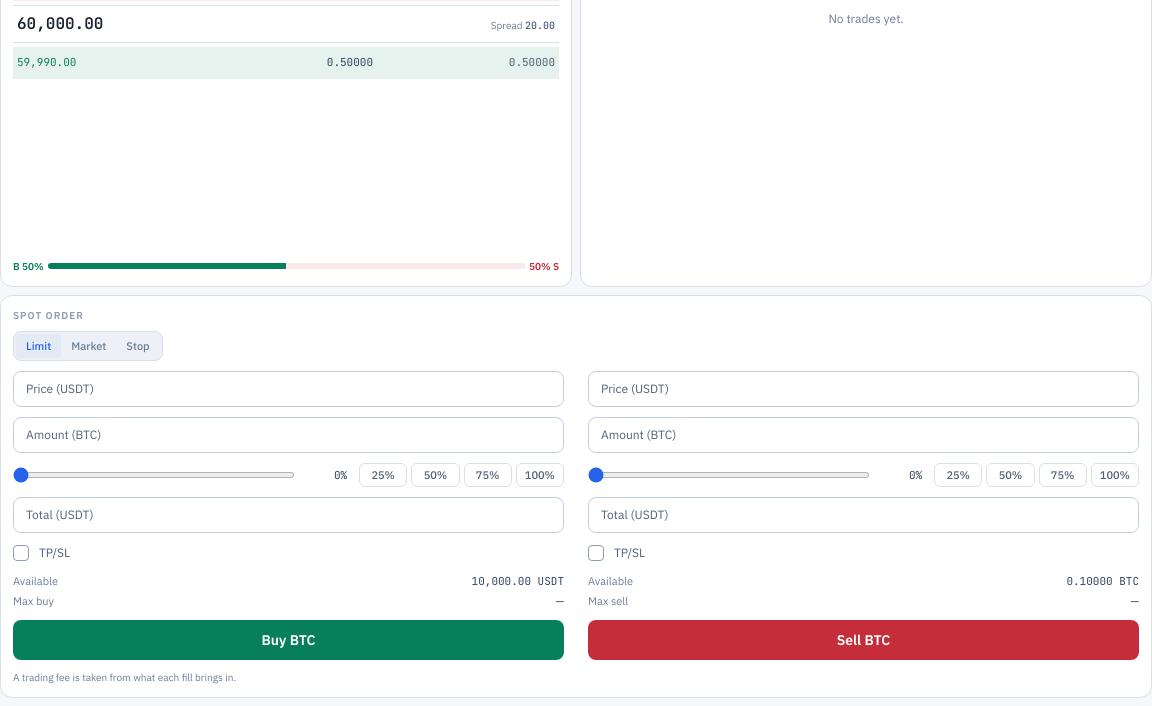
Test: Spot demo orders (TR-F3) › shows the Buy and the Sell forms side by side on a wide screen, under one order type
(page scrolled)
Expected: the text "10,000.00 USDT" is shown, left=472, top=574, right=564, bottom=588
Step 1. Click the radio button labelled "Stop" → [138, 346], box left=116, top=334, right=160, bottom=358
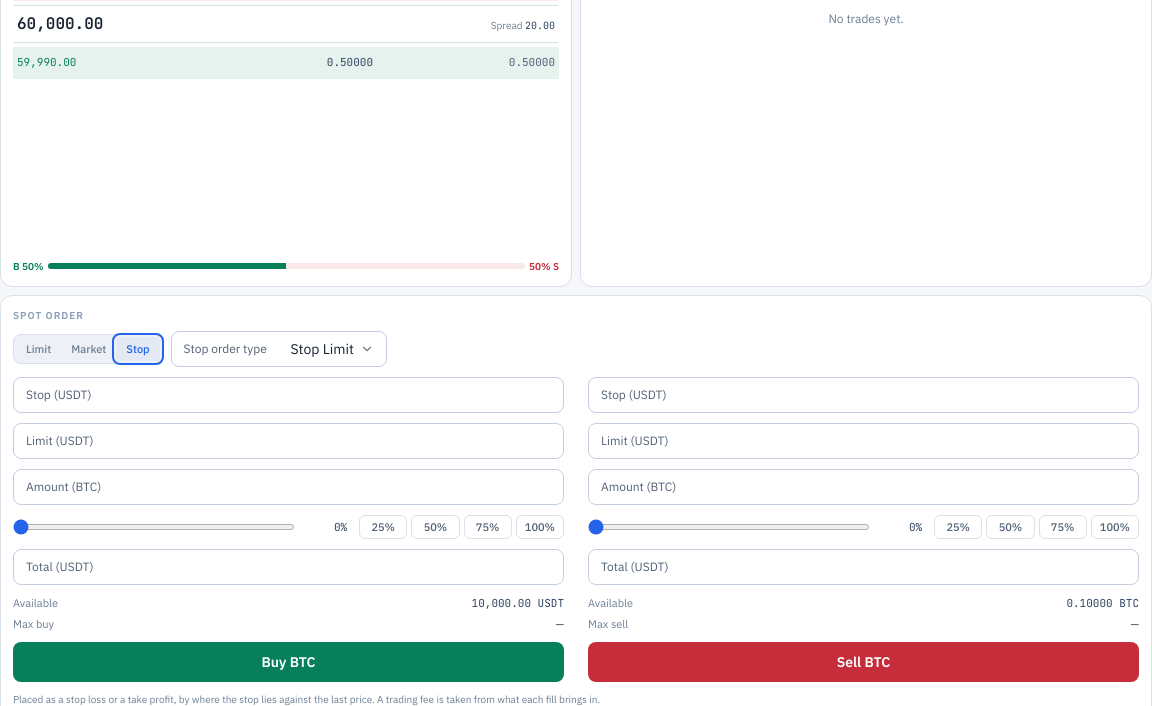
Now the 1st field labelled "Stop (USDT)" is shown, box left=100, top=378, right=551, bottom=412
Now the 2nd field labelled "Stop (USDT)" is shown, box left=675, top=378, right=1126, bottom=412
Step 2. Click the radio button labelled "Limit" → [39, 349], box left=16, top=337, right=61, bottom=361
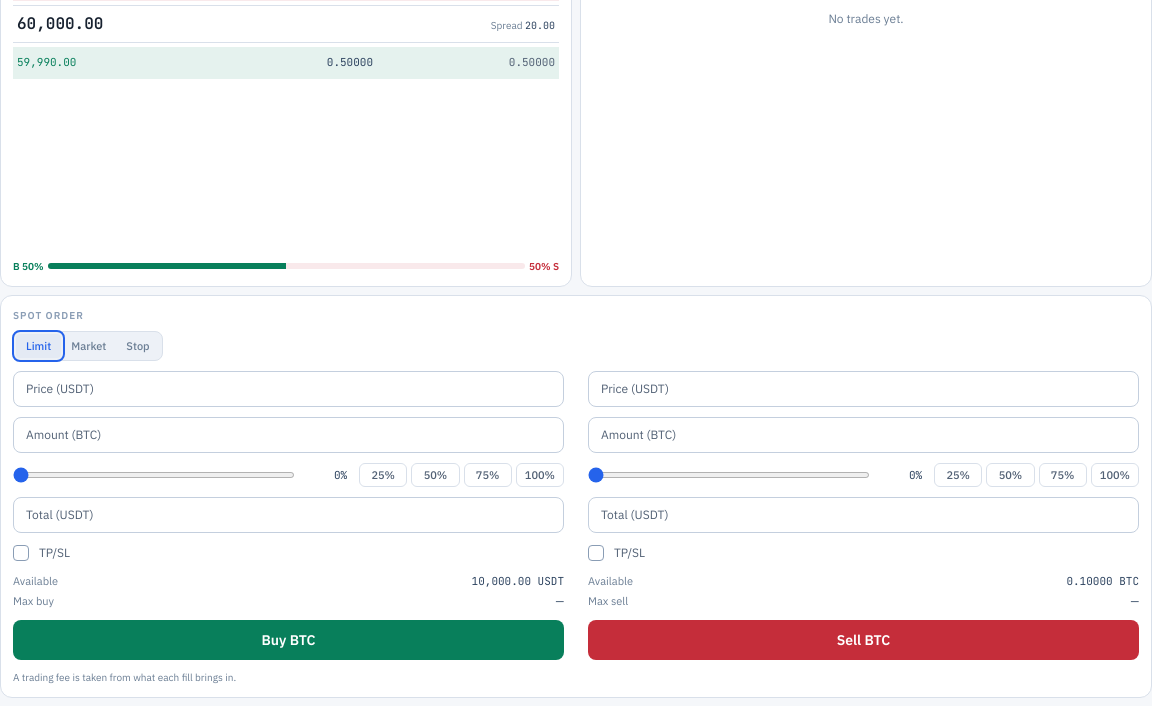
Step 3. Type "70000" into the 2nd field labelled "Price (USDT)" → [901, 389], box left=677, top=372, right=1126, bottom=406
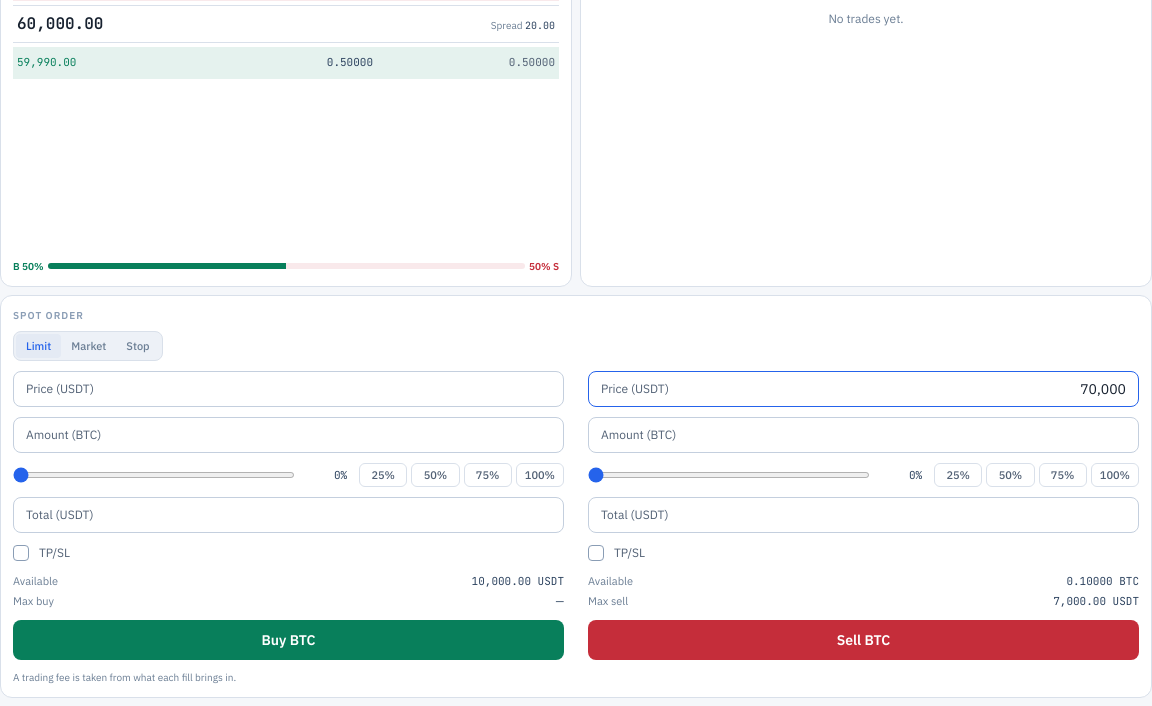
Step 4. Type "0.05" into the 2nd field labelled "Amount (BTC)" → [905, 435], box left=684, top=418, right=1126, bottom=452
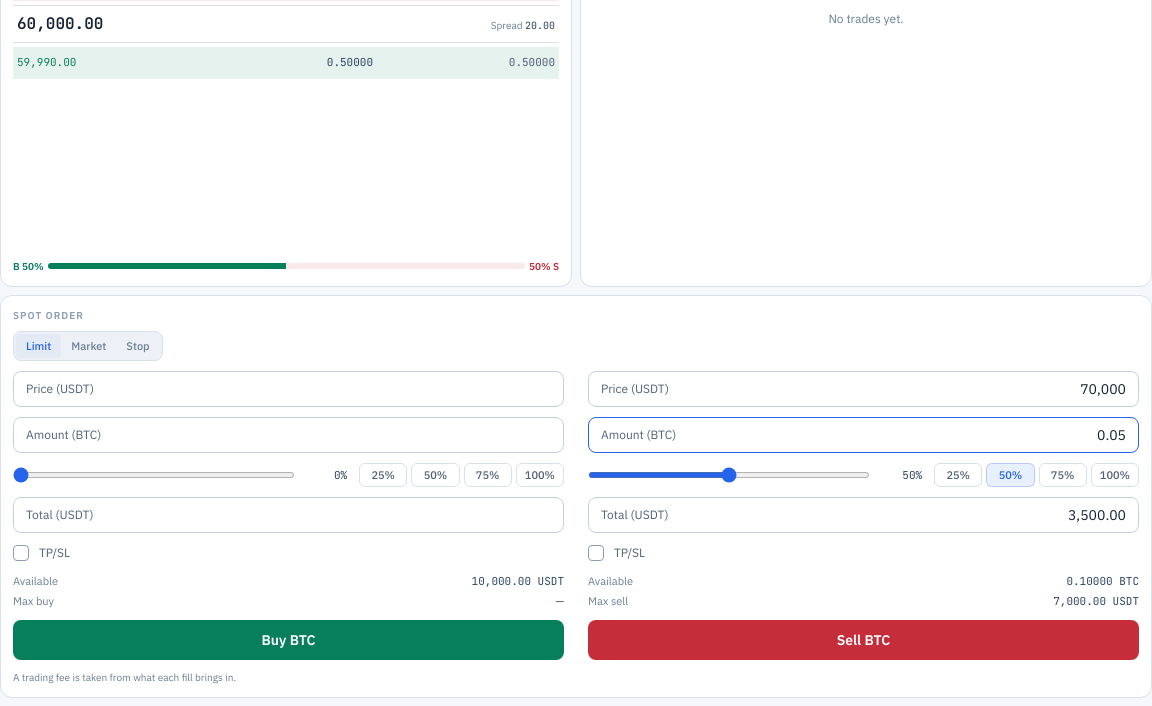
Expected: the 1st field labelled "Amount (BTC)" is empty, left=109, top=418, right=551, bottom=452
Step 5. Click the button "Sell BTC" → [864, 640], box left=588, top=620, right=1139, bottom=660
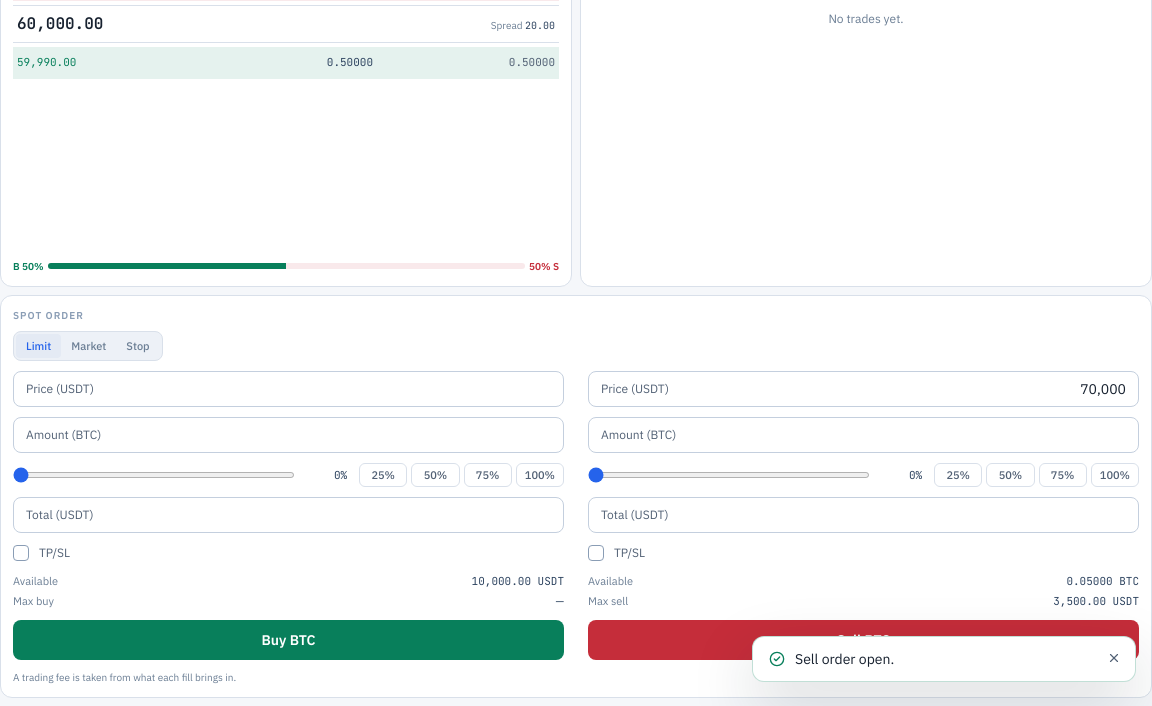
Now the text "Sell order open." is shown, box left=795, top=650, right=894, bottom=668
